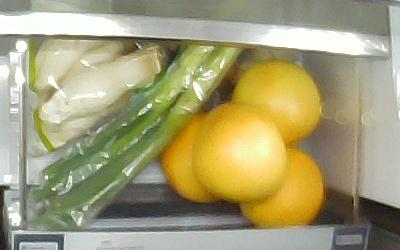grapefruit: (190, 101, 287, 201), (230, 59, 321, 144), (238, 145, 324, 226), (158, 111, 223, 202)
